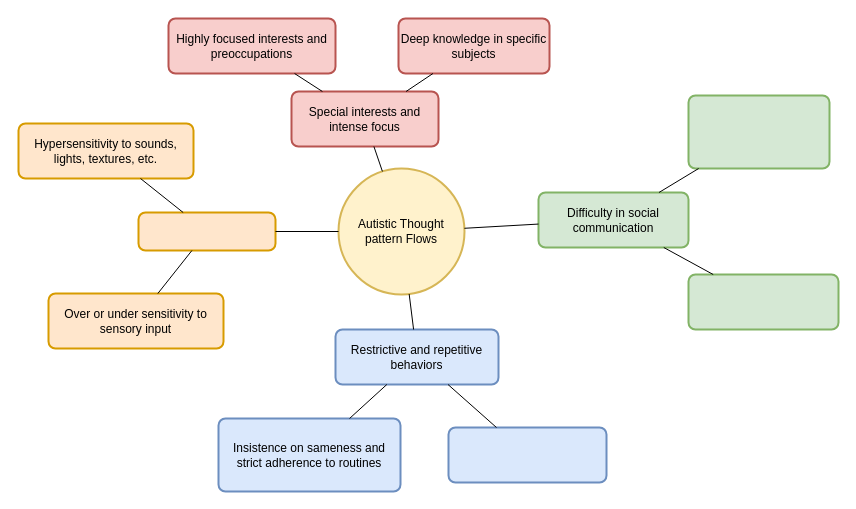
This 856x509 diagram has some shape labels left out. Each missing label, with the centre of its shape:
"Challenges in understanding and using non verbal cues" goes at [758,131].
"Difficulty in developing and maintaining relationships" goes at [763,301].
"Sensory sensitivities" goes at [206,231].
"Stereotyped or repetitive motor movements" goes at [527,454].
